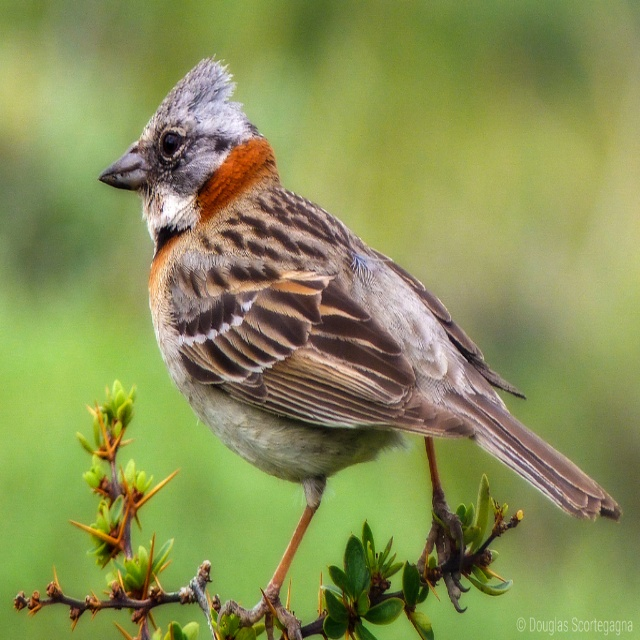Sparrow: (98, 53, 621, 640)
